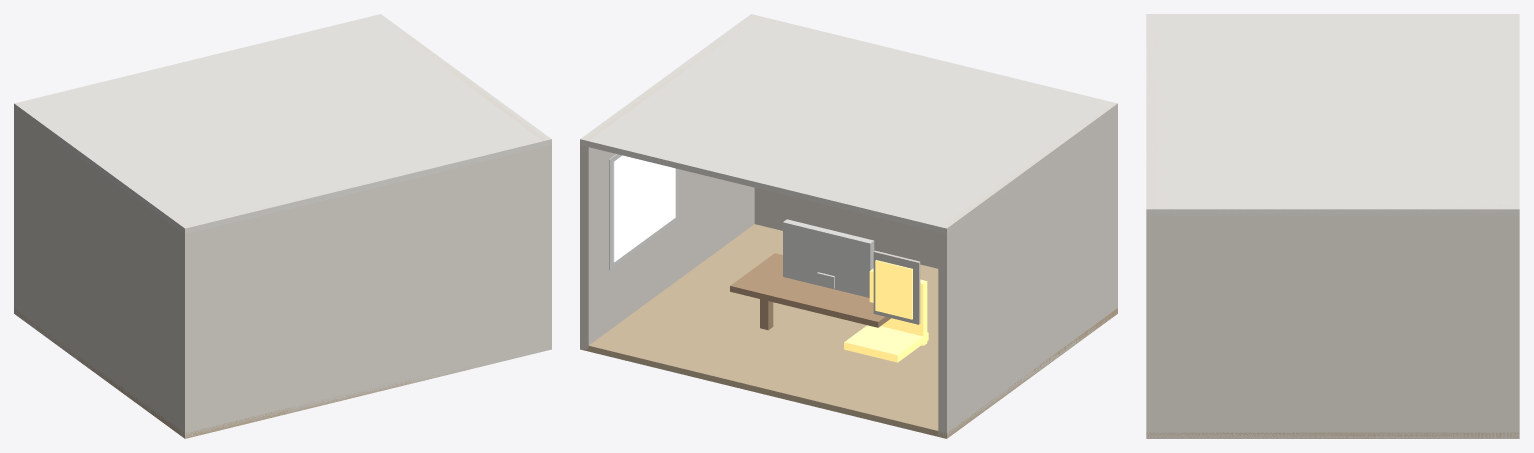
File: sunny-room.glb
The picture shows the model from 3 angles, left to right: view 1: azimuth 30°, elevation 25°; view 2: azimuth 150°, elevation 25°; view 3: azimuth 270°, elevation 25°; orthographic projection. The views are drawn at different scales.
Visible parts, largest first — view 1: WallBack, Ceiling, WallLeft, Floor, WallRight; view 2: Ceiling, WallLeft, Floor, WallRight, WallBack, Monitor, WindowGlass, DeskTop, ChairSeat, FramePhoto, Frame, WindowFrame (+1 smaller); view 3: WallRight, Ceiling, WallBack, Floor.
Part boxes in pixels (<box>): WallBack: <box>180,139,551,438</box>; Ceiling: <box>14,14,551,234</box>; WallLeft: <box>14,103,193,438</box>; Floor: <box>14,308,467,438</box>; WallRight: <box>376,15,551,187</box>; Ceiling: <box>580,14,1116,234</box>; WallLeft: <box>938,102,1117,438</box>; Floor: <box>581,224,1117,438</box>; WallRight: <box>580,15,758,349</box>; WallBack: <box>748,14,1117,307</box>; Monitor: <box>783,219,874,297</box>; WindowGlass: <box>613,155,675,262</box>; DeskTop: <box>730,253,890,327</box>; ChairSeat: <box>844,325,928,362</box>; FramePhoto: <box>875,260,912,319</box>; Frame: <box>873,250,920,324</box>; WindowFrame: <box>609,154,678,270</box>; WallRight: <box>1146,205,1519,438</box>; Ceiling: <box>1146,14,1519,215</box>; WallBack: <box>1146,15,1156,438</box>; Floor: <box>1146,432,1519,438</box>.
Size of the model in its own units: 5.2 by 2.85 by 4.2.
